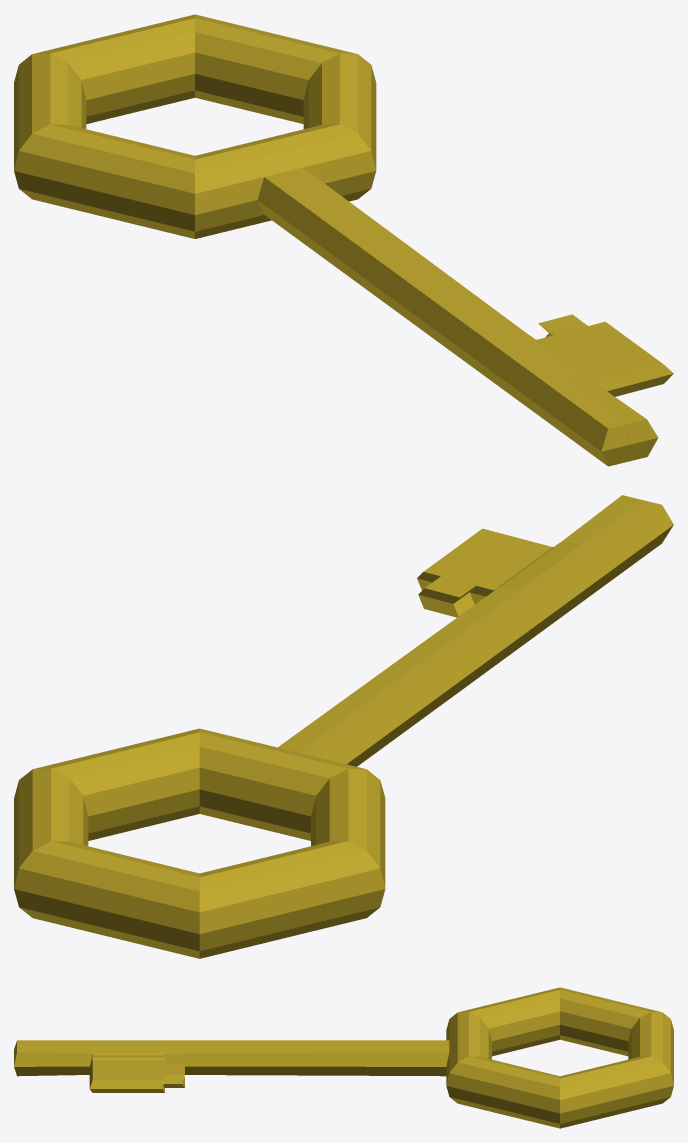
The model's file is Ngle_-_Escape_from_boas.fbx.
3 renders of one model, top to bottom at view 1: azimuth 30°, elevation 25°; view 2: azimuth 150°, elevation 25°; view 3: azimuth 270°, elevation 25°, orthographic. The views are drawn at different scales.
Parts seen in each view (by area): view 1: Torus; view 2: Torus; view 3: Torus.
Part boxes in pixels (left/top/right/bottom): Torus: left=14, top=14, right=673, bottom=466; Torus: left=14, top=495, right=673, bottom=958; Torus: left=14, top=987, right=673, bottom=1128.
Bounding box in the file's own units: 250 × 50 × 628.
